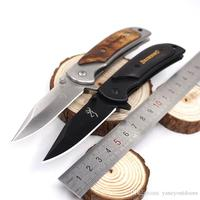knife: (8, 14, 185, 172)
